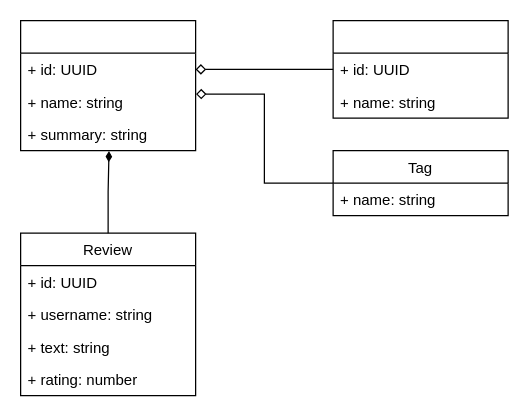
The diagram is 529 pixels wide and 416 high, and some of its shapes have lost their labels. Here are the shapes that lost their labels. From the top down, the box of each, then its label:
(19, 19, 196, 151): Book
(332, 19, 508, 118): Author
